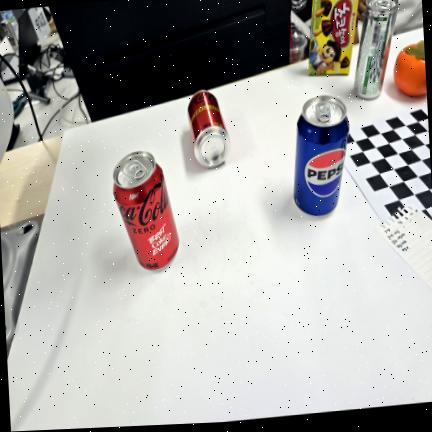can_coke_decaf: (186, 89, 231, 167)
can_coke_zero: (112, 150, 180, 269)
can_pepsi: (292, 96, 350, 215)
